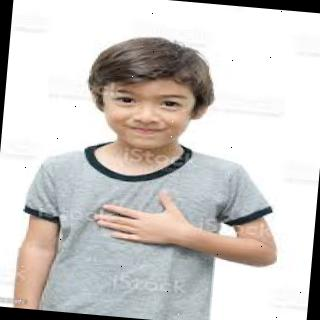Please: (84, 178, 202, 250)
